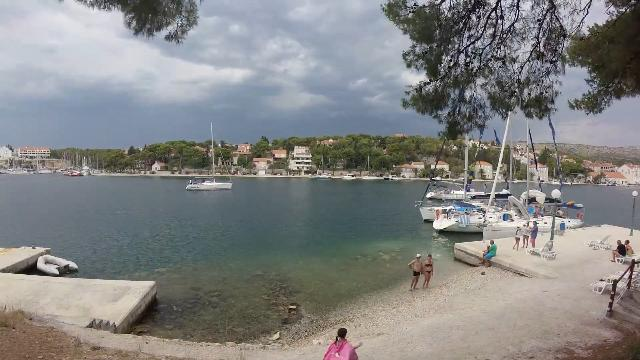Sailboat: (182, 172, 236, 196)
